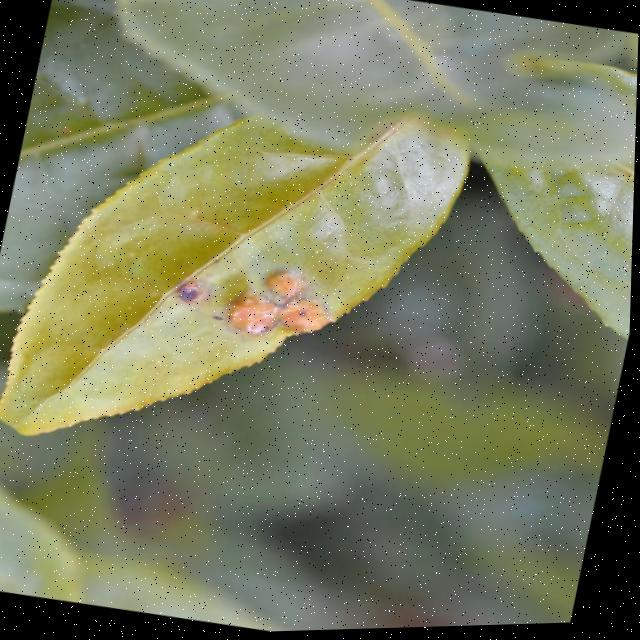Tea cake: (220, 260, 335, 352), (167, 270, 214, 312)
